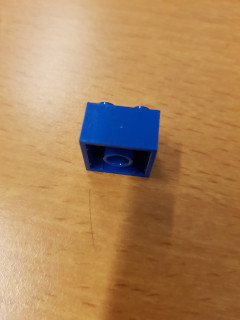2x2 blue: (76, 100, 162, 180)
